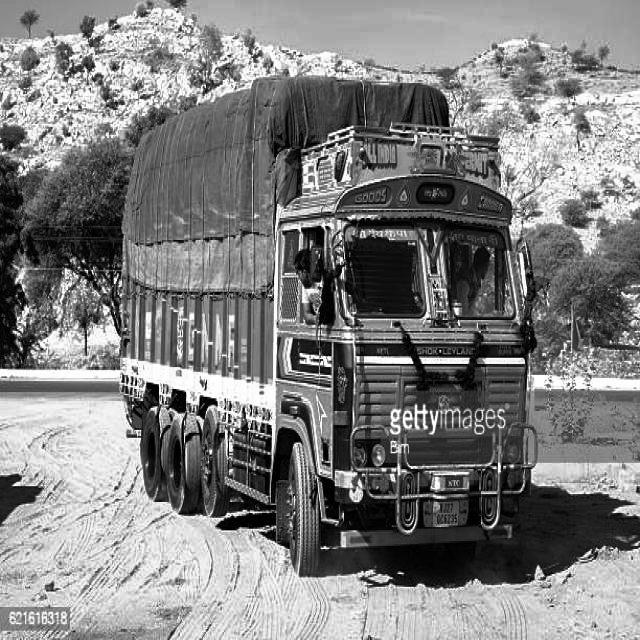HCV: (89, 50, 579, 596)
